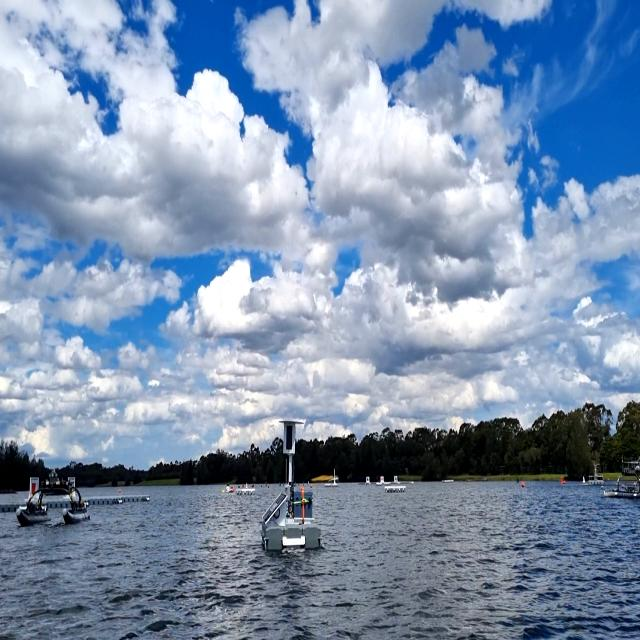led: (285, 422, 293, 452)
